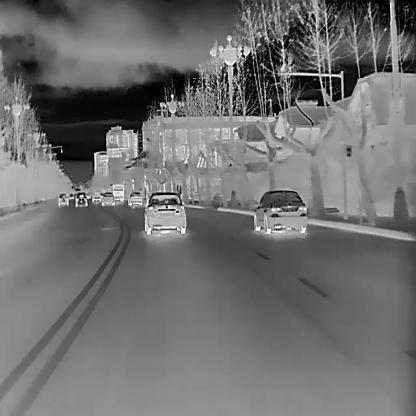car: (253, 188, 307, 235), (144, 191, 186, 235), (111, 184, 124, 202), (127, 192, 142, 206), (101, 192, 115, 206), (74, 192, 87, 206), (57, 192, 69, 206), (92, 191, 101, 203)
